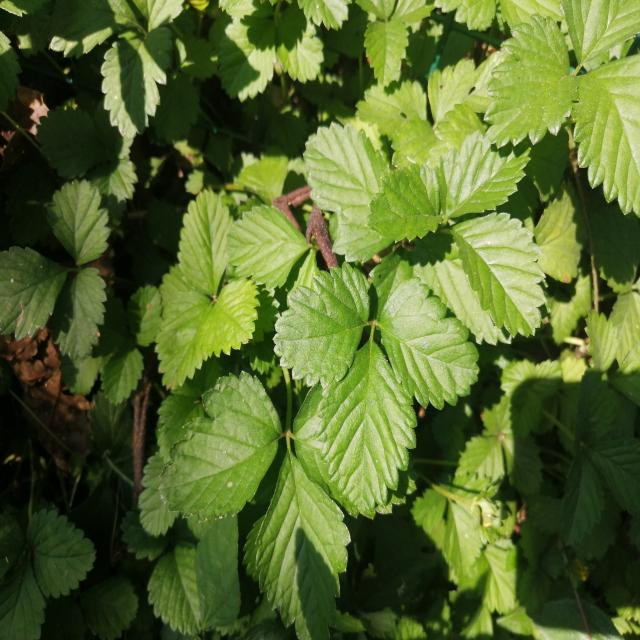Mock_strawberry: (302, 106, 558, 329), (284, 264, 472, 505), (145, 206, 276, 367)
